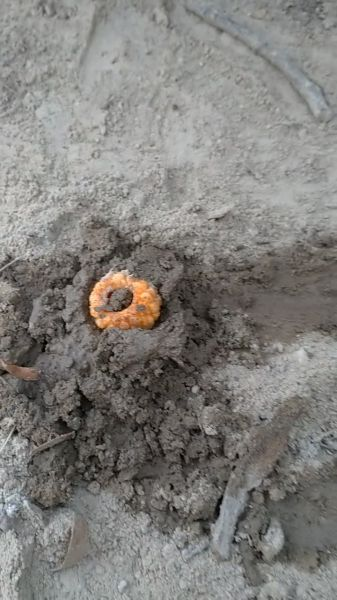eggs: (83, 267, 168, 335)
